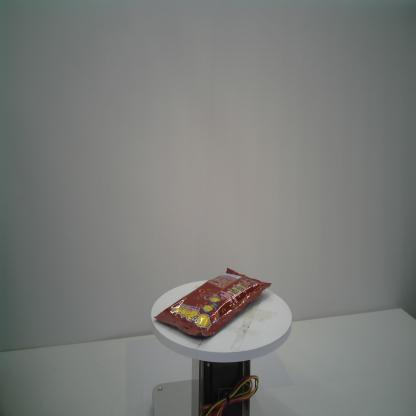Candy: (153, 267, 272, 337)
